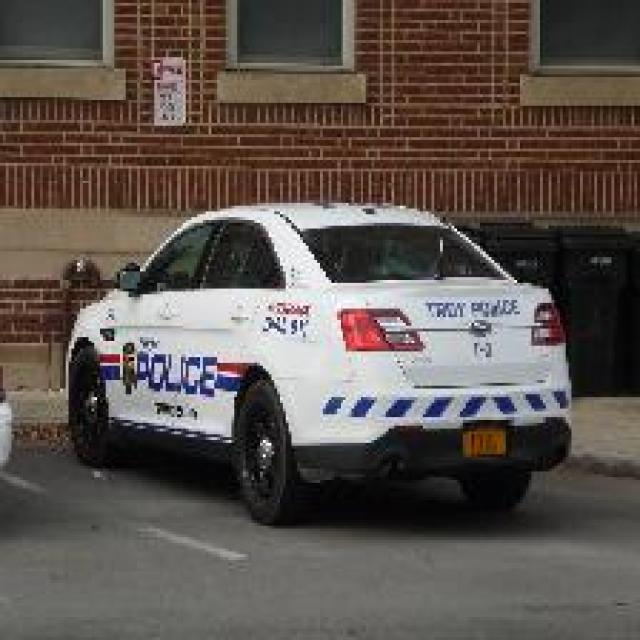emergency: (63, 200, 575, 528)
